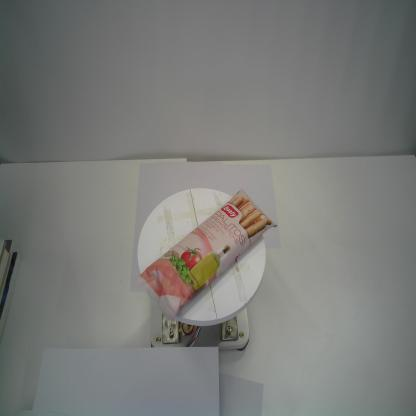Dessert: (134, 187, 278, 323)
